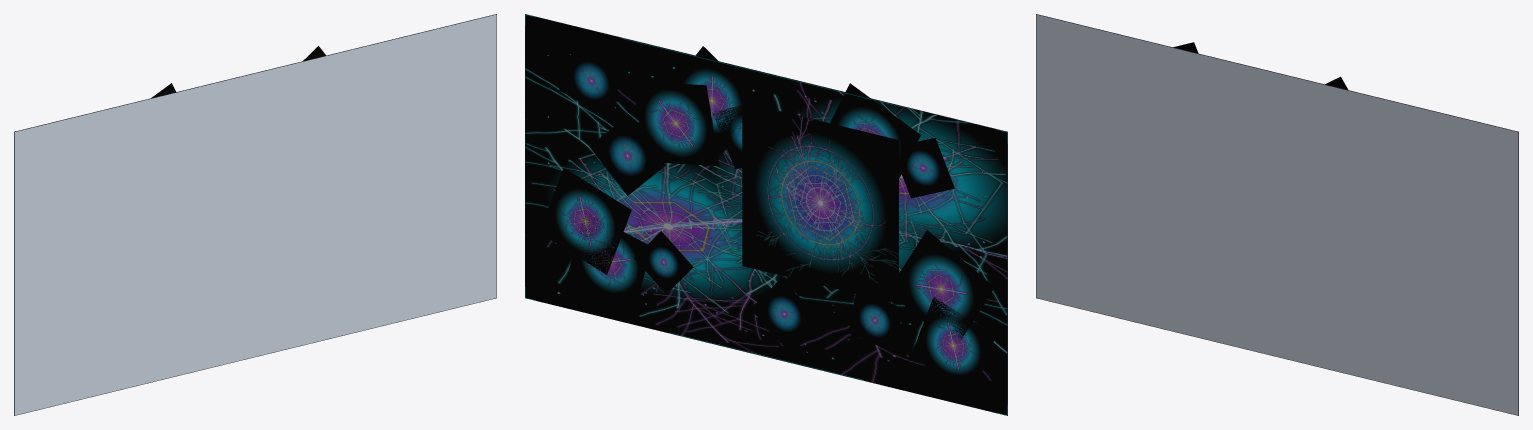
Rendered from screen_decals_tachyon_lance.obj.
The picture shows the model from 3 angles, left to right: view 1: azimuth 30°, elevation 25°; view 2: azimuth 150°, elevation 25°; view 3: azimuth 330°, elevation 25°; orthographic projection.
Parts seen in each view (by area): view 1: Translucent_Clear_Screen, Solid_Back_Panel, Frame_005m_Thick; view 2: Decal_BrokenSpiderWeb_Screen, Decal_BrokenSpiderWeb_Core, Decal_MissileStrike_02, Decal_MissileStrike_03, Decal_MissileStrike_04, Decal_MissileStrike_07, Decal_MissileStrike_06, Decal_MissileStrike_08, Decal_LaserBurn_02, Decal_LaserBurn_05, Decal_MissileStrike_05, Decal_LaserBurn_08 (+7 smaller); view 3: Translucent_Clear_Screen, Solid_Back_Panel, Frame_005m_Thick.
Boxes of the visible parts, left/top/right/bottom form: Translucent_Clear_Screen: left=14, top=14, right=496, bottom=415; Solid_Back_Panel: left=14, top=14, right=496, bottom=415; Frame_005m_Thick: left=14, top=14, right=496, bottom=415; Decal_BrokenSpiderWeb_Screen: left=525, top=15, right=1007, bottom=414; Decal_BrokenSpiderWeb_Core: left=742, top=102, right=898, bottom=303; Decal_MissileStrike_02: left=632, top=81, right=719, bottom=166; Decal_MissileStrike_03: left=899, top=230, right=994, bottom=342; Decal_MissileStrike_04: left=539, top=168, right=631, bottom=274; Decal_MissileStrike_07: left=911, top=296, right=995, bottom=394; Decal_MissileStrike_06: left=567, top=213, right=647, bottom=312; Decal_MissileStrike_08: left=673, top=46, right=761, bottom=155; Decal_LaserBurn_02: left=589, top=116, right=665, bottom=195; Decal_LaserBurn_05: left=559, top=43, right=623, bottom=118; Decal_MissileStrike_05: left=830, top=83, right=920, bottom=178; Decal_LaserBurn_08: left=751, top=278, right=818, bottom=349; Translucent_Clear_Screen: left=1036, top=14, right=1518, bottom=415; Solid_Back_Panel: left=1036, top=14, right=1518, bottom=415; Frame_005m_Thick: left=1036, top=14, right=1518, bottom=415.
Bounding box in the file's own units: 1.6 × 0.9371 × 0.00155.
9 materials, 5 textured.
